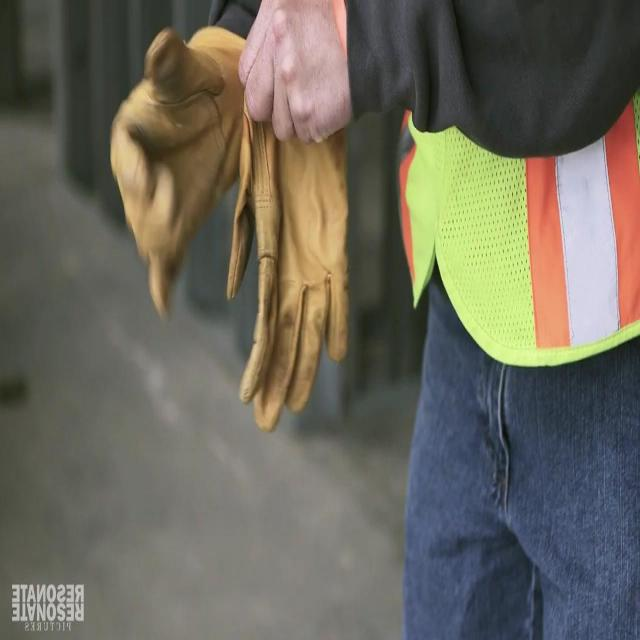Reflective-Jacket: (390, 9, 638, 371)
